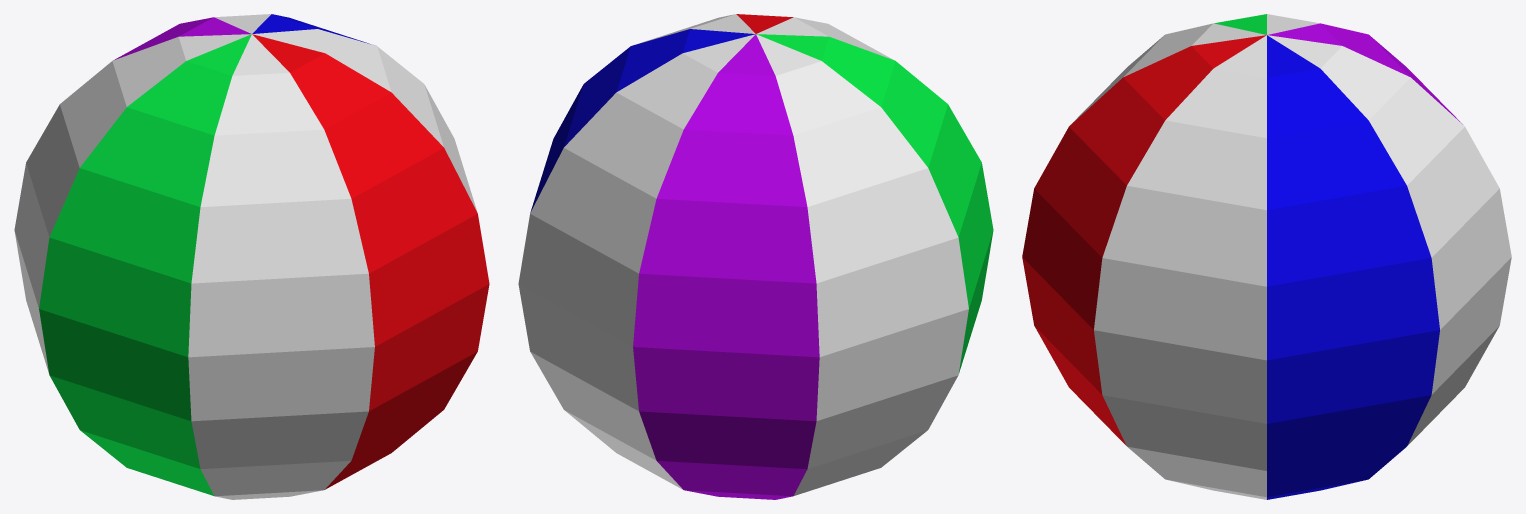
File: beachball.fbx
3 renders of one model, left to right at view 1: azimuth 30°, elevation 25°; view 2: azimuth 150°, elevation 25°; view 3: azimuth 270°, elevation 25°, orthographic.
Visible parts, largest first — view 1: Sphere; view 2: Sphere; view 3: Sphere.
Boxes of the visible parts, x1,y1,x2,y2 form: Sphere: (14,14,489,499); Sphere: (518,14,993,499); Sphere: (1022,14,1511,499).
Size of the model in its own units: 200 by 200 by 200.
